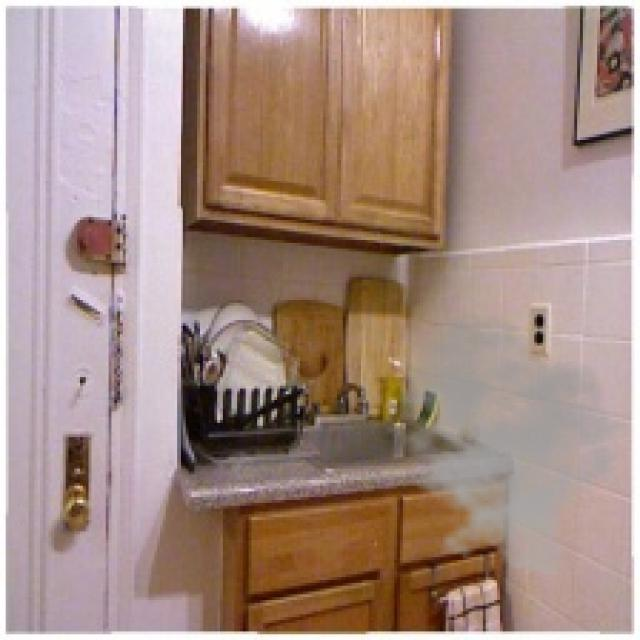smoke: (374, 312, 632, 577)
